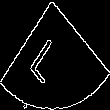L_NE: (34, 25, 76, 85)
